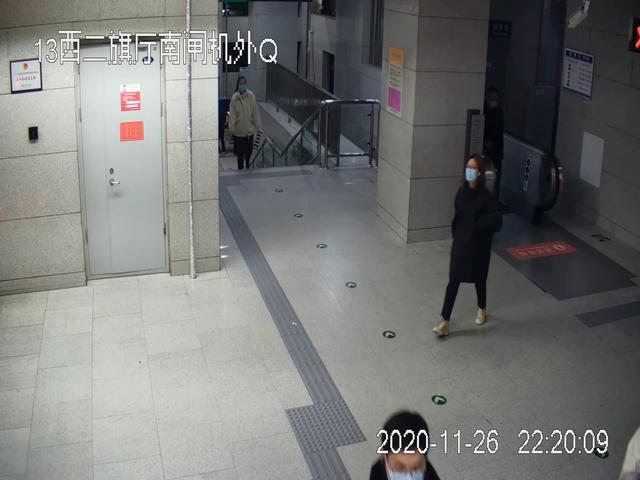person: (432, 154, 501, 339), (226, 76, 262, 175)
